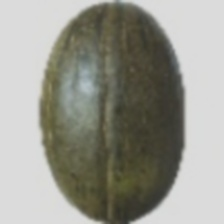honeydew: (19, 11, 165, 174)
